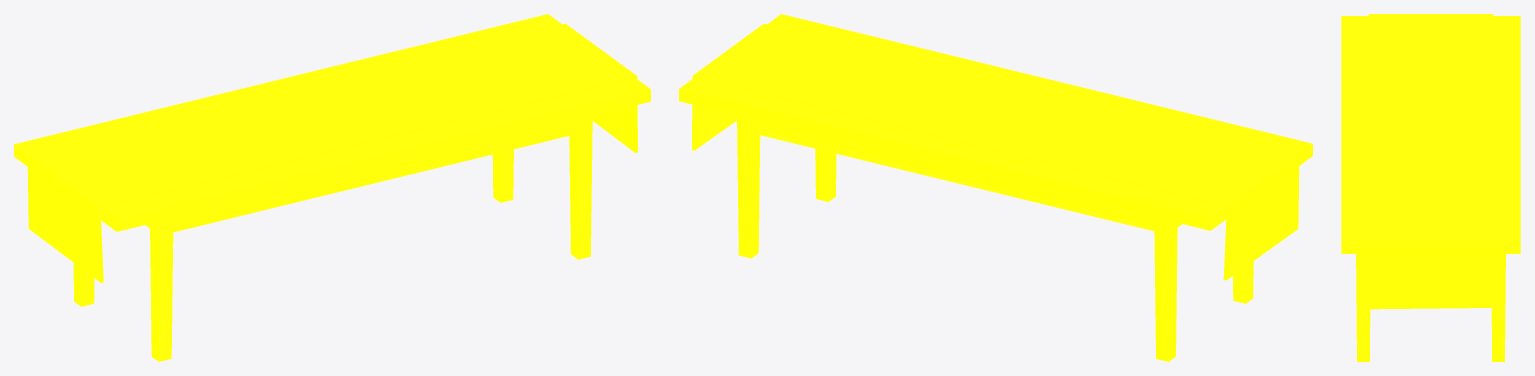
File: table-dinner-christmas.glb
3 renders of one model, left to right at view 1: azimuth 30°, elevation 25°; view 2: azimuth 150°, elevation 25°; view 3: azimuth 270°, elevation 25°, orthographic. The views are drawn at different scales.
Visible parts, largest first — view 1: table_dinner_christmas; view 2: table_dinner_christmas; view 3: table_dinner_christmas.
Part boxes in pixels (<box>): table_dinner_christmas: <box>14,14,650,361</box>; table_dinner_christmas: <box>679,14,1312,361</box>; table_dinner_christmas: <box>1341,14,1520,361</box>.
Bounding box in the file's own units: 3.03 × 0.8824 × 1.
Materials: 1 (1 with a texture image).
